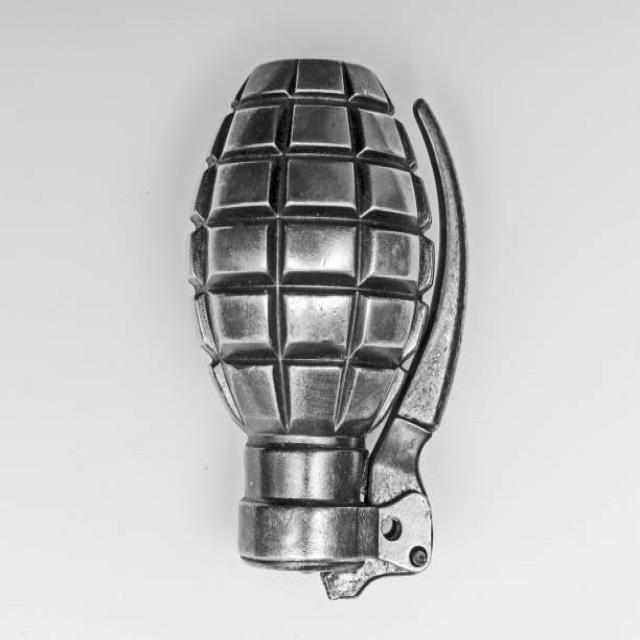grenade: (180, 51, 475, 603)
